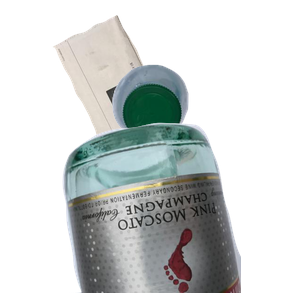glass: (60, 120, 300, 300)
paper: (51, 13, 230, 186)
plastic: (110, 62, 300, 198)
trash: (74, 148, 273, 300)
